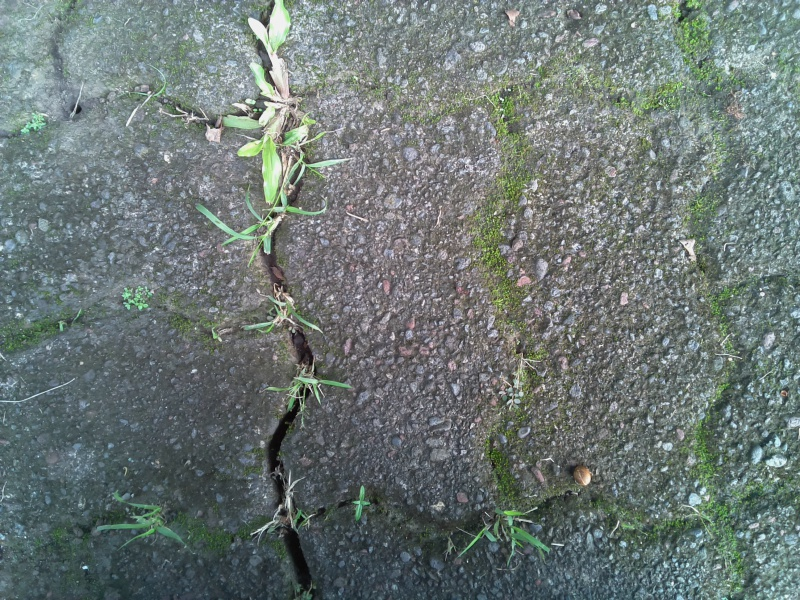Weed: (231, 102, 338, 194), (231, 12, 320, 114), (201, 183, 307, 259), (92, 489, 193, 554), (455, 503, 558, 566), (237, 280, 324, 342), (270, 357, 343, 423), (250, 470, 317, 541), (114, 278, 160, 317), (348, 482, 380, 530), (14, 107, 58, 141), (498, 373, 530, 415)
